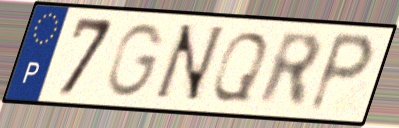7: (59, 14, 116, 98)
G: (103, 21, 168, 100)
N: (148, 22, 229, 105)
P: (304, 29, 377, 116)
Q: (207, 30, 272, 105)
R: (255, 28, 326, 111)
